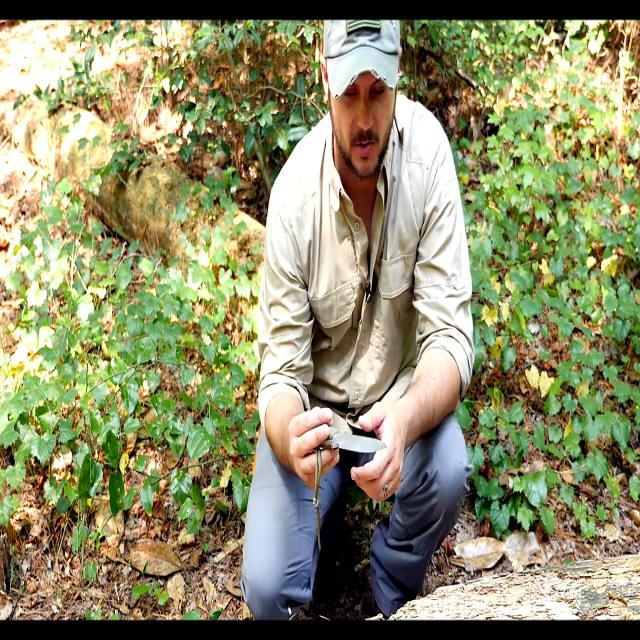knife: (328, 426, 392, 463)
